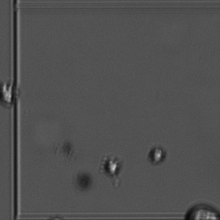Dead Cell: (73, 171, 98, 196)
Living Cell: (100, 153, 129, 182), (1, 77, 23, 108), (145, 145, 170, 170)
